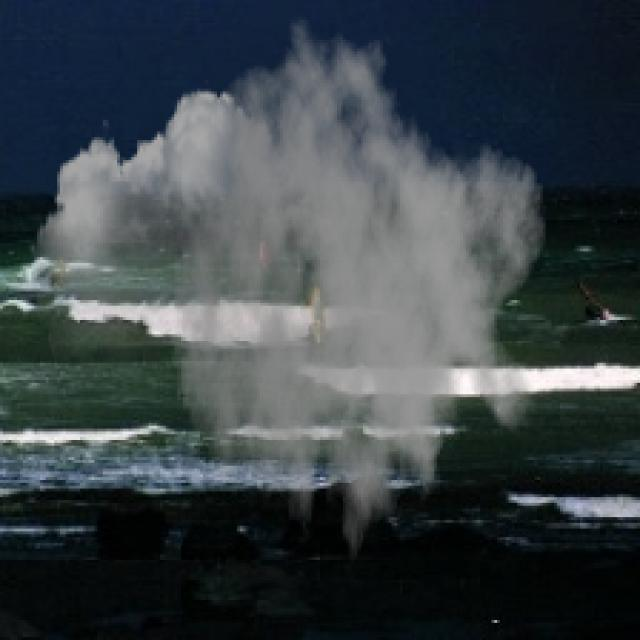Smoke: (29, 17, 548, 586)
